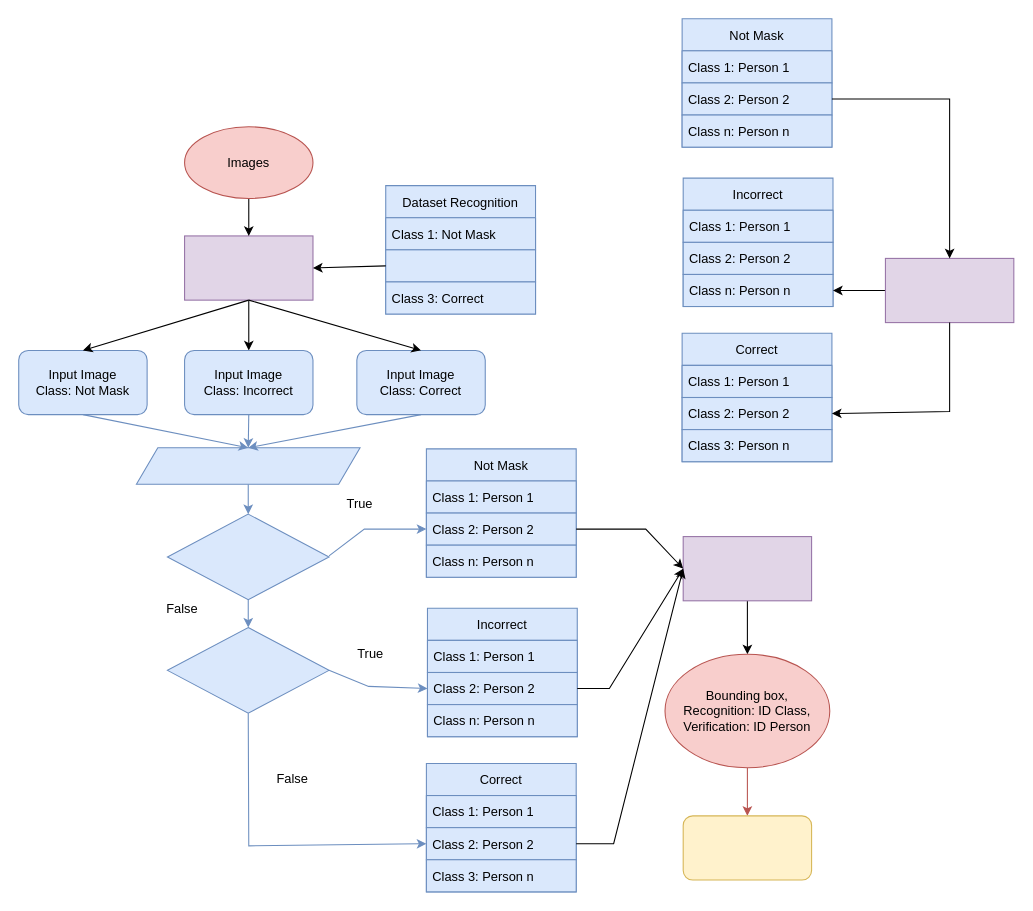
This 1033x911 diagram has some shape labels left out. The centre of each missing label's shape, as x and y in pixels:
Class 2: Incorrect: the point at 460,265
FaceNet + Dataset: Name: the point at 747,568
ID Class == Incorrect: the point at 247,669
ID Class == Not Mask: the point at 247,556
int ID Class = Name Class: the point at 247,465
Model: the point at 949,290
Use OpenCV in Python display result: the point at 747,847
YoLo: the point at 248,267
